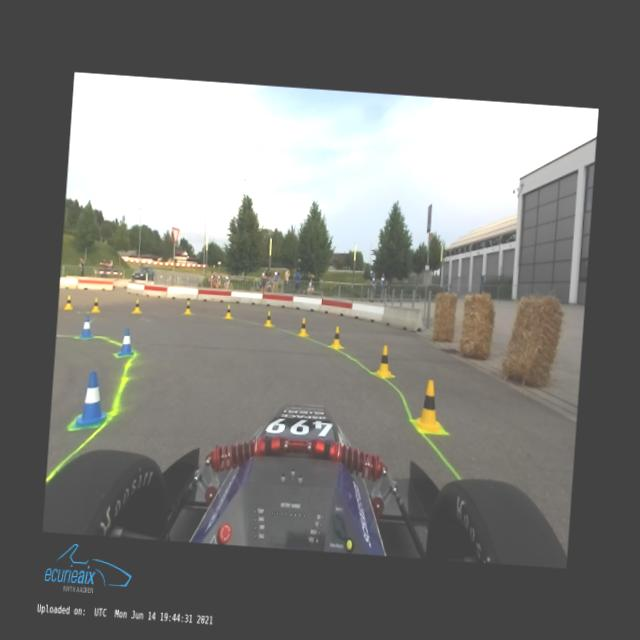blue_cone: (72, 370, 113, 430), (118, 327, 135, 356), (80, 315, 94, 338)
yellow_cone: (412, 379, 444, 434), (374, 344, 394, 378), (331, 326, 342, 347), (298, 317, 308, 336), (64, 294, 73, 310), (91, 296, 100, 312), (264, 310, 273, 326), (225, 304, 232, 318), (133, 298, 140, 312), (184, 300, 191, 313)
